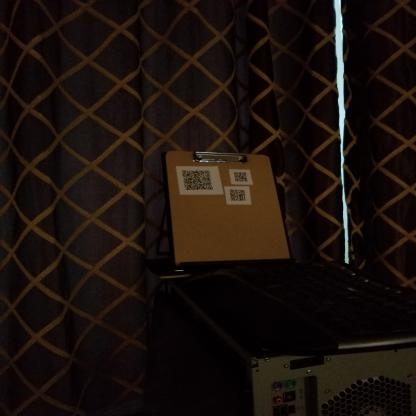qr: (179, 167, 214, 193), (227, 186, 249, 202), (231, 170, 250, 182)
